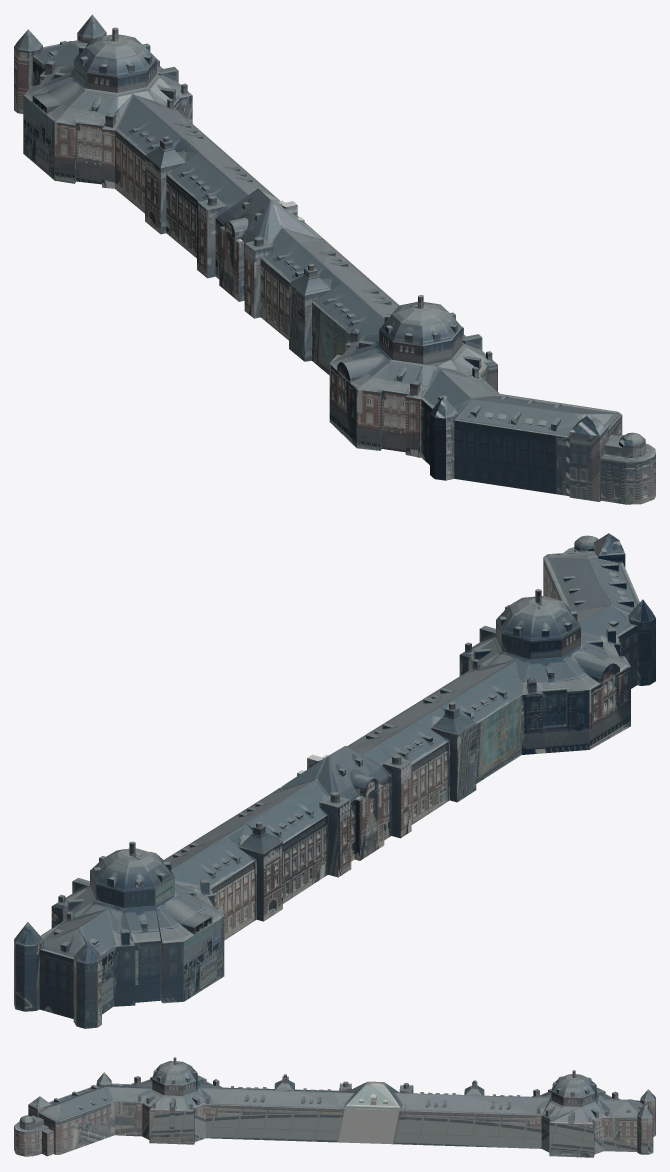
File: station.glb
The picture shows the model from 3 angles, top to bottom: view 1: azimuth 30°, elevation 25°; view 2: azimuth 150°, elevation 25°; view 3: azimuth 270°, elevation 25°; orthographic projection. The views are drawn at different scales.
Bounding box in the file's own units: 59.96 × 38.42 × 318.
Materials: 4 (2 with a texture image).
